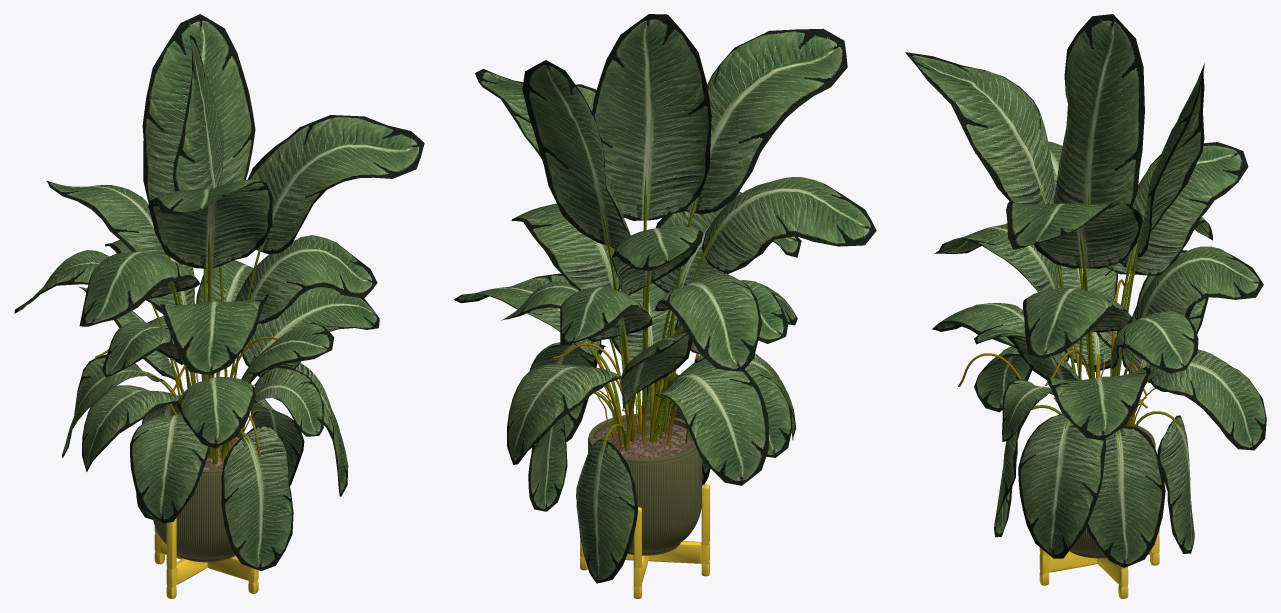
The model's file is Banana_Plant_Pot.glb.
3 renders of one model, left to right at view 1: azimuth 30°, elevation 25°; view 2: azimuth 150°, elevation 25°; view 3: azimuth 270°, elevation 25°, orthographic. The views are drawn at different scales.
Visible parts, largest first — view 1: 2, Cylinder.001, Cube.002; view 2: 2, Cylinder.001, Cube.002, Circle.002; view 3: 2, Cube.002, Cylinder.001.
Part boxes in pixels (bbox=[...]): 2: bbox=[14, 14, 424, 570]; Cylinder.001: bbox=[152, 432, 245, 562]; Cube.002: bbox=[154, 518, 258, 598]; 2: bbox=[453, 14, 876, 583]; Cylinder.001: bbox=[588, 413, 701, 555]; Cube.002: bbox=[580, 484, 709, 598]; Circle.002: bbox=[593, 420, 694, 458]; 2: bbox=[905, 14, 1266, 567]; Cube.002: bbox=[1039, 529, 1159, 598]; Cylinder.001: bbox=[1069, 424, 1155, 558].
Size of the model in its own units: 1.22 by 1.77 by 1.05.
6 materials, 4 textured.
